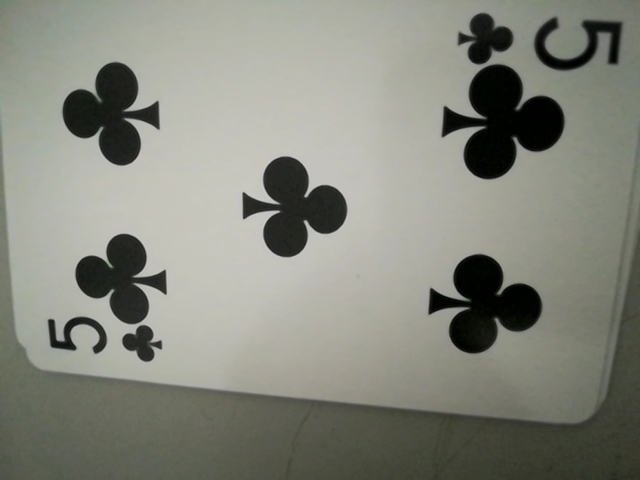mh 5: (453, 6, 620, 69), (37, 311, 172, 371)
